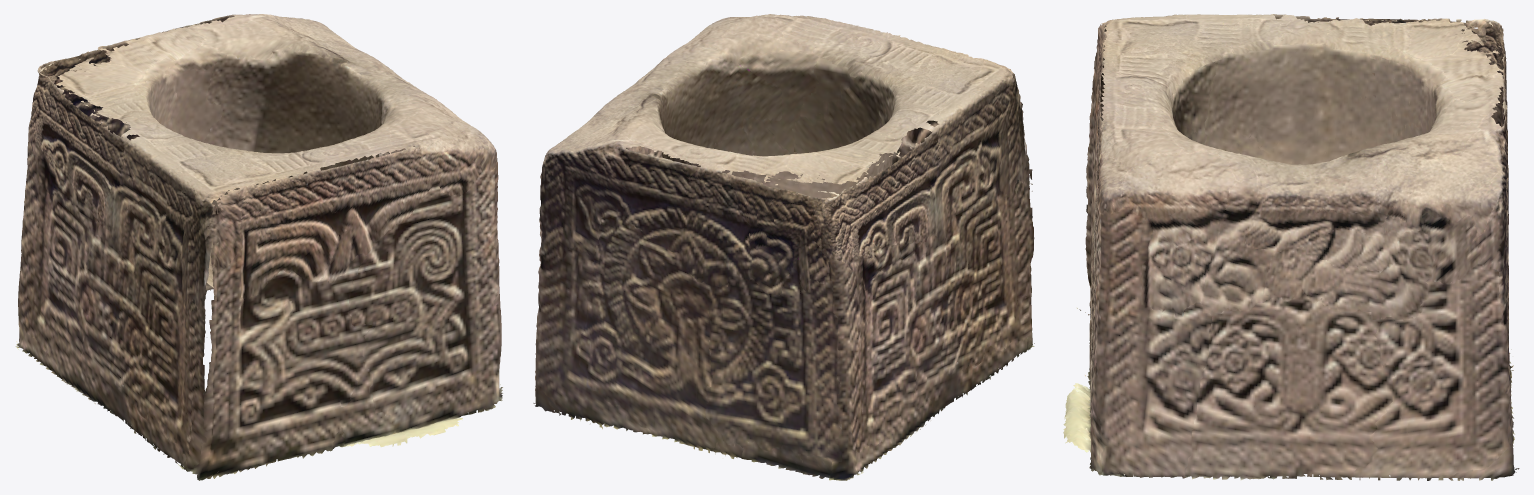
File: mexicas.glb
3 renders of one model, left to right at view 1: azimuth 30°, elevation 25°; view 2: azimuth 150°, elevation 25°; view 3: azimuth 270°, elevation 25°, orthographic. The views are drawn at different scales.
Parts seen in each view (by area): view 1: Object_3, Object_2; view 2: Object_3, Object_2; view 3: Object_2, Object_3.
Part boxes in pixels (x1,y1,x2,y2): Object_3: (19, 14, 502, 480); Object_2: (15, 15, 502, 474); Object_3: (539, 19, 1034, 461); Object_2: (533, 14, 1034, 480); Object_2: (1076, 14, 1519, 480); Object_3: (1063, 16, 1512, 480).
Size of the model in its own units: 0.713 by 0.591 by 0.779.
Materials: 1 (1 with a texture image).
